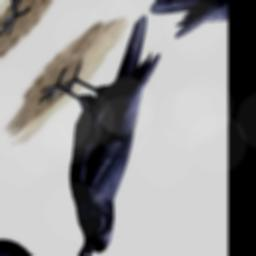Crow: (0, 0, 216, 256)
